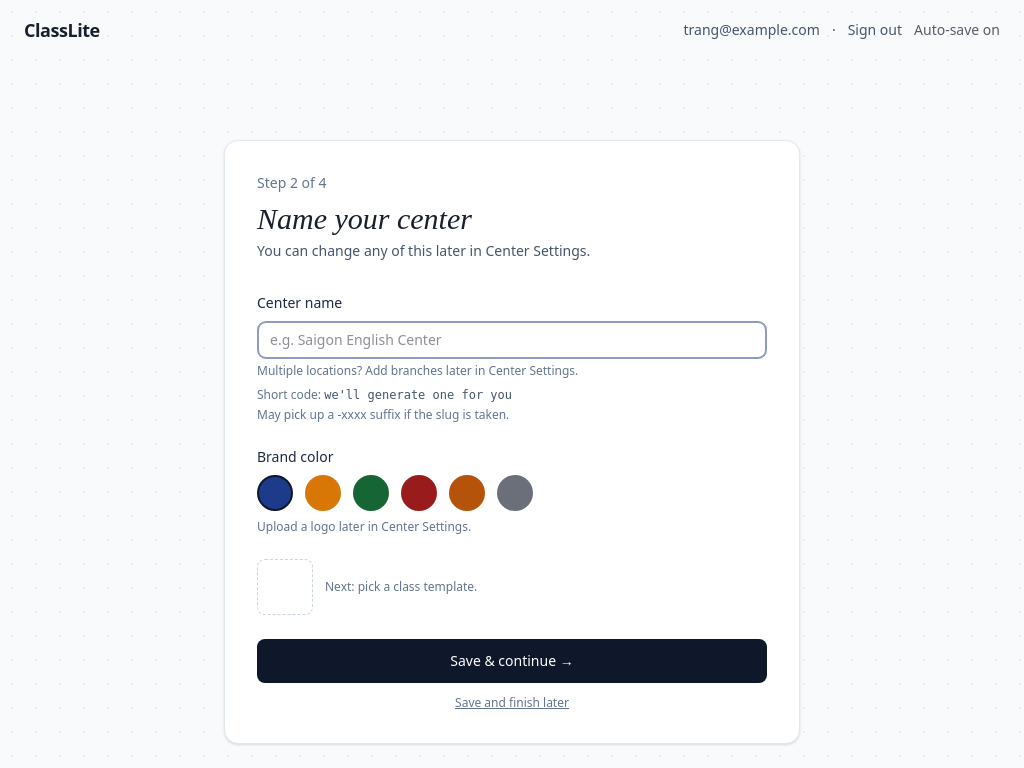
Test case: CenterSetupPage — AC7 POST /api/centers error branches › 429 RATE_LIMIT_EXCEEDED interpolates Retry-After seconds + disables button (Murat-B3)
Type "X" into the field labelled "Center name" at x=512, y=340, box [257,321,767,359]
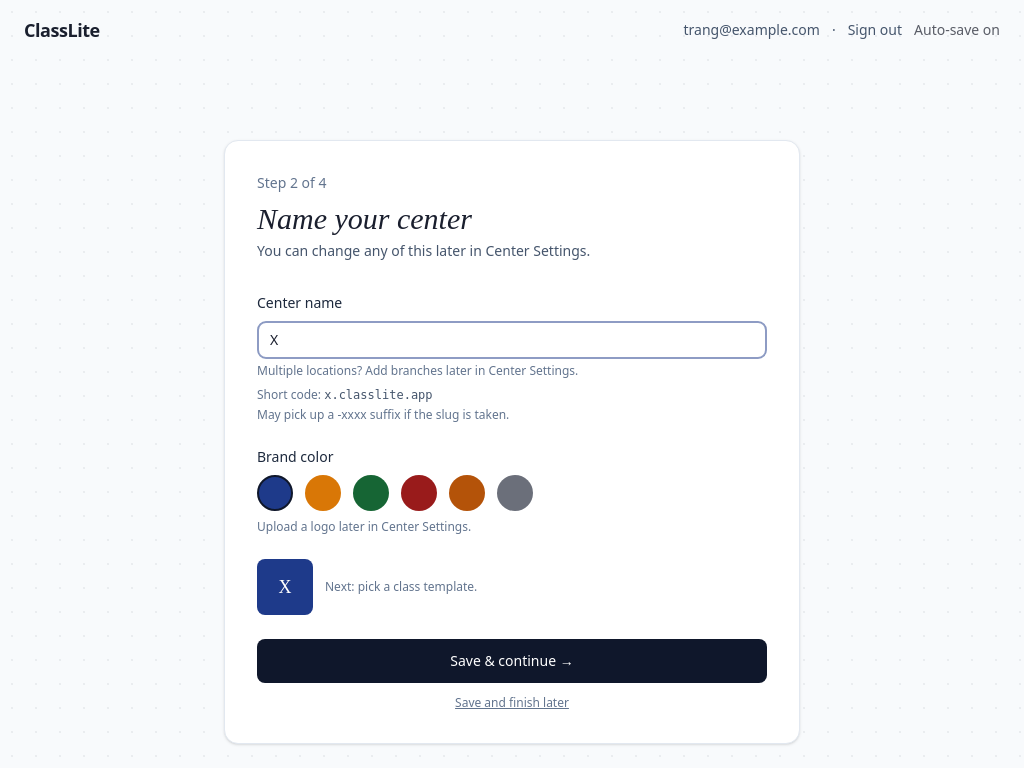
Click the button "Save & continue →" at x=512, y=661, box [257,639,767,683]
(page scrolled)
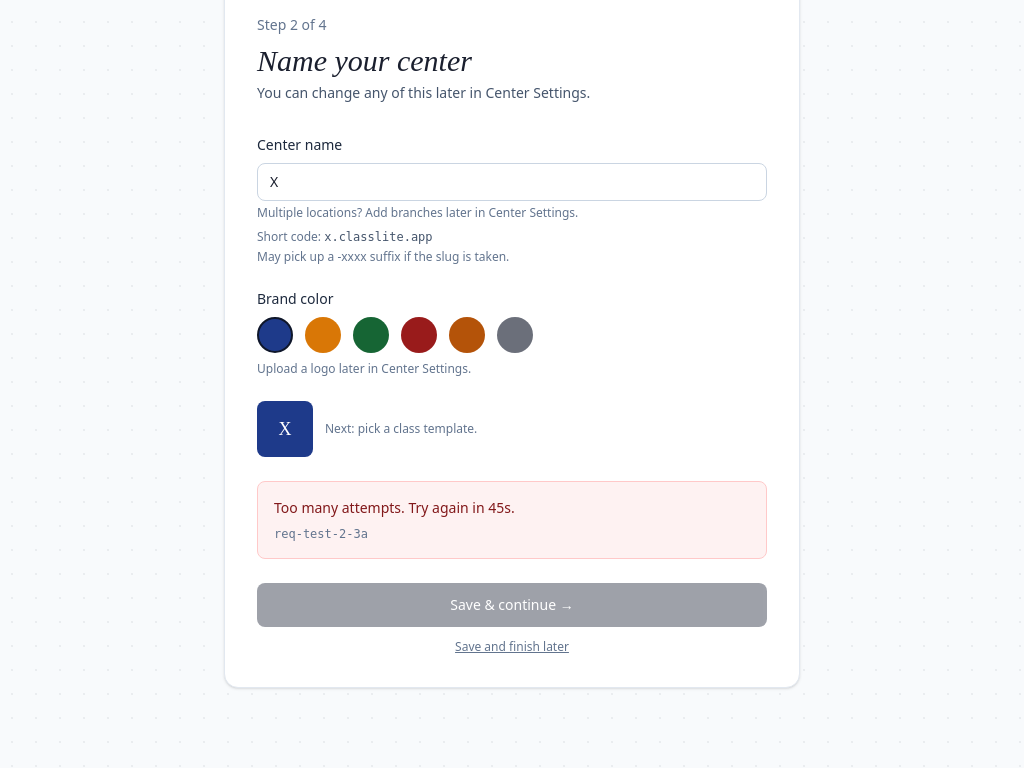
expect the message shows "45": met, box [257,481,767,559]
expect the button "Save & continue →" is disabled: met, box [257,583,767,627]
